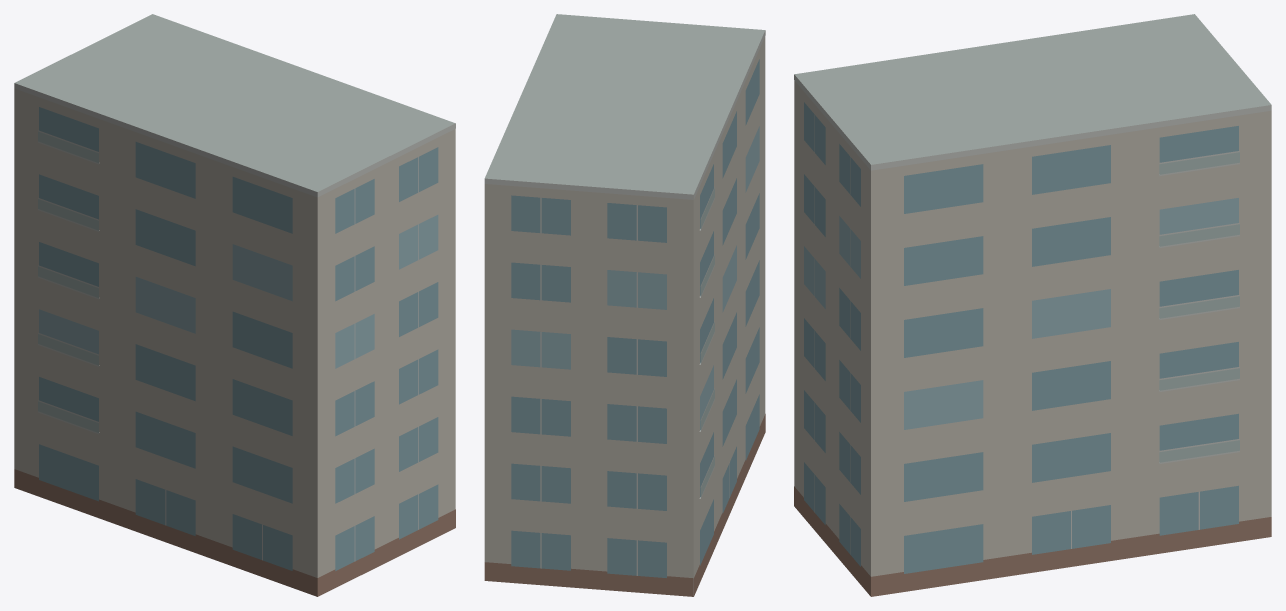
File: survey-upis-32706933.glb
3 renders of one model, left to right at view 1: azimuth 30°, elevation 25°; view 2: azimuth 150°, elevation 25°; view 3: azimuth 270°, elevation 25°, orthographic. The views are drawn at different scales.
Visible parts, largest first — view 1: survey-upis-32706933.tmp; view 2: survey-upis-32706933.tmp; view 3: survey-upis-32706933.tmp.
Boxes of the visible parts, x1=… form: survey-upis-32706933.tmp: x1=14, y1=14, x2=455, y2=596; survey-upis-32706933.tmp: x1=484, y1=14, x2=765, y2=596; survey-upis-32706933.tmp: x1=794, y1=14, x2=1271, y2=596.
Bounding box in the file's own units: 13.72 × 18.3 × 18.34.
